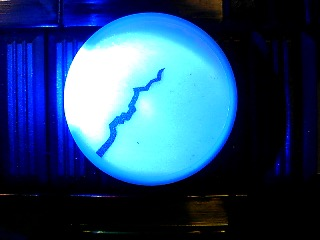CRACK: (62, 12, 239, 187)
